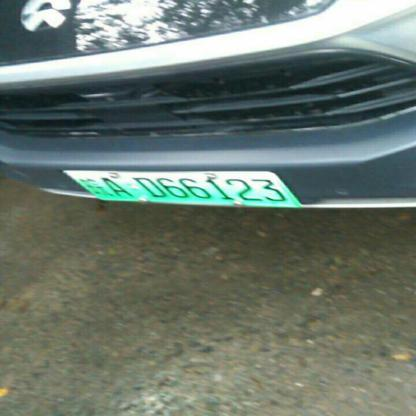lp: (63, 170, 302, 206)
